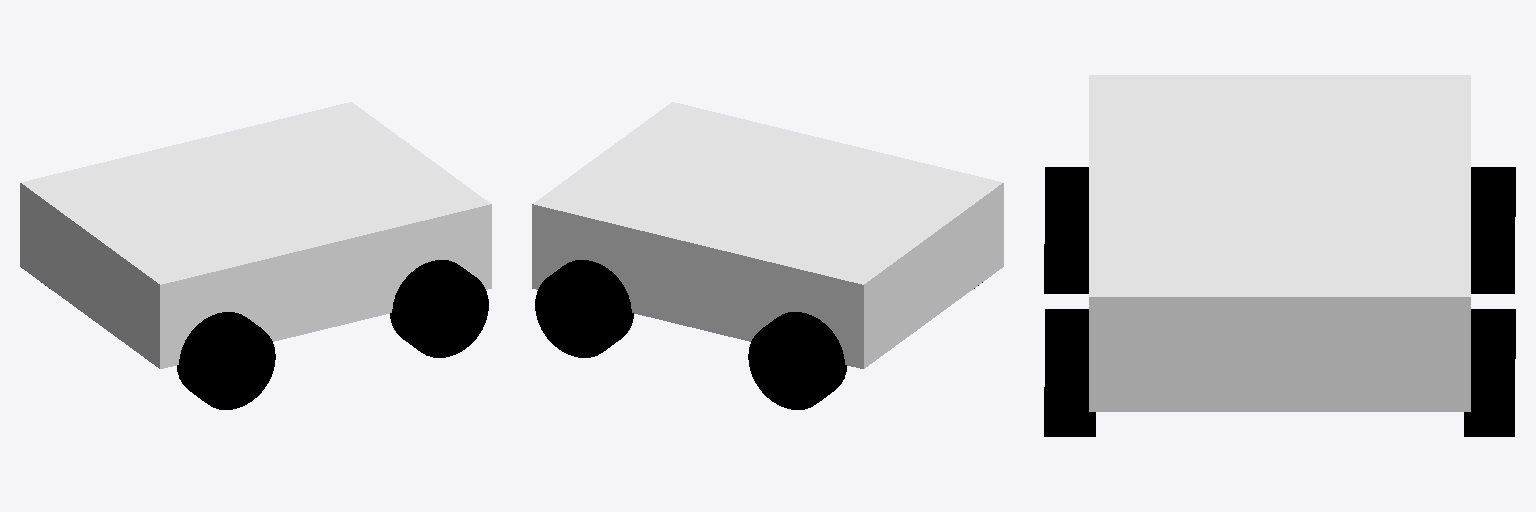
URDF robot description (wheeltec_robot):
<?xml version="1.0" ?>
<robot name="wheeltec_robot">

    <link name="base_link">
        <visual>
            <origin xyz=" 0 0 0.10" rpy="0 0 0" />
            <geometry>
                <box size="0.41 0.3 0.100"/>
            </geometry>
            <material name="white">
                <color rgba="1 1 1 1"/>
            </material>
        </visual>
    </link>   

    <joint name="left_wheel_joint" type="continuous">
        <origin xyz="-0.132 0.1645 0.05" rpy="1.57 0 0"/>
        <parent link="base_link"/>
        <child link="left_wheel_link"/>
        <axis xyz="0 1 0"/>
    </joint>

    <link name="left_wheel_link">
        <visual>
            <origin xyz="0 0 0" rpy="0 0 0" />
            <geometry>
                <cylinder radius="0.05" length = "0.04"/>
            </geometry>
            <material name="black">
                <color rgba="0 0 0 1"/>
            </material>
        </visual>
    </link>

    <joint name="right_wheel_joint" type="continuous">
        <origin xyz="-0.132 -0.1645 0.05" rpy="1.57 0 0"/>
        <parent link="base_link"/>
        <child link="right_wheel_link"/>
        <axis xyz="0 1 0"/>
    </joint>

    <link name="right_wheel_link">
        <visual>
            <origin xyz="0 0 0" rpy="0 0 0" />
            <geometry>
                <cylinder radius="0.05" length = "0.04"/>
            </geometry>
            <material name="black">
                <color rgba="0 0 0 1"/>
            </material>
        </visual>
    </link>

      <joint name="left_front_joint" type="continuous">
        <origin xyz="0.132 0.1645 0.05" rpy="1.57 0 0"/>
        <parent link="base_link"/>
        <child link="left_front_link"/>
        <axis xyz="0 1 0"/>
    </joint>

    <link name="left_front_link">
        <visual>
            <origin xyz="0 0 0" rpy="0 0 0" />
            <geometry>
                <cylinder radius="0.05" length = "0.04"/>
            </geometry>
            <material name="black">
                <color rgba="0 0 0 1"/>
            </material>
        </visual>
    </link>

    <joint name="right_front_joint" type="continuous">
        <origin xyz="0.132 -0.1645 0.05" rpy="1.57 0 0"/>
        <parent link="base_link"/>
        <child link="right_front_link"/>
        <axis xyz="0 1 0"/>
    </joint>

    <link name="right_front_link">
        <visual>
            <origin xyz="0 0 0" rpy="0 0 0" />
            <geometry>
                <cylinder radius="0.05" length = "0.04"/>
            </geometry>
            <material name="black">
                <color rgba="0 0 0 1"/>
            </material>
        </visual>
    </link>


</robot>

--- Facts derived from the render (not from the file) ---
The picture shows the robot from 3 angles, left to right: view 1: azimuth 30°, elevation 25°; view 2: azimuth 150°, elevation 25°; view 3: azimuth 270°, elevation 25°; orthographic projection.
Model wheeltec_robot with 5 links and 4 joints (4 continuous), rooted at base_link, posed every joint at zero.
Links seen in each view (by area): view 1: base_link, right_front_link, right_wheel_link; view 2: base_link, left_front_link, left_wheel_link; view 3: base_link, left_front_link, right_front_link, left_wheel_link, right_wheel_link.
Boxes of the visible links, <box> form: base_link: <box>20,102,491,368</box>; right_front_link: <box>390,260,488,357</box>; right_wheel_link: <box>177,312,275,409</box>; base_link: <box>532,102,1003,368</box>; left_front_link: <box>535,260,633,357</box>; left_wheel_link: <box>748,312,846,409</box>; base_link: <box>1089,75,1470,411</box>; left_front_link: <box>1464,309,1515,436</box>; right_front_link: <box>1044,309,1095,436</box>; left_wheel_link: <box>1471,167,1515,293</box>; right_wheel_link: <box>1044,167,1088,293</box>.
Bounding box of the posed robot: 0.41 × 0.3691 × 0.15 m (x, y, z).
Geometry: primitives only (box / cylinder / sphere), no mesh files.
